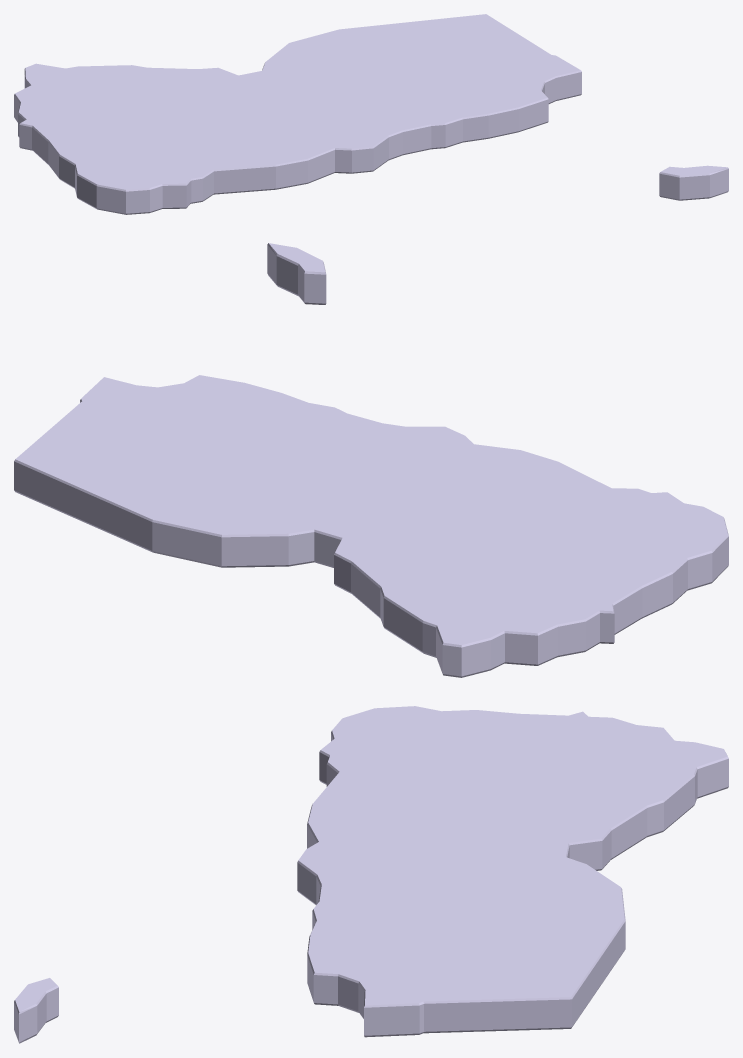
File: YEM.glb
3 renders of one model, top to bottom at view 1: azimuth 30°, elevation 25°; view 2: azimuth 150°, elevation 25°; view 3: azimuth 270°, elevation 25°, orthographic. The views are drawn at different scales.
Size of the model in its own units: 1.41 by 0.068 by 1.39.
